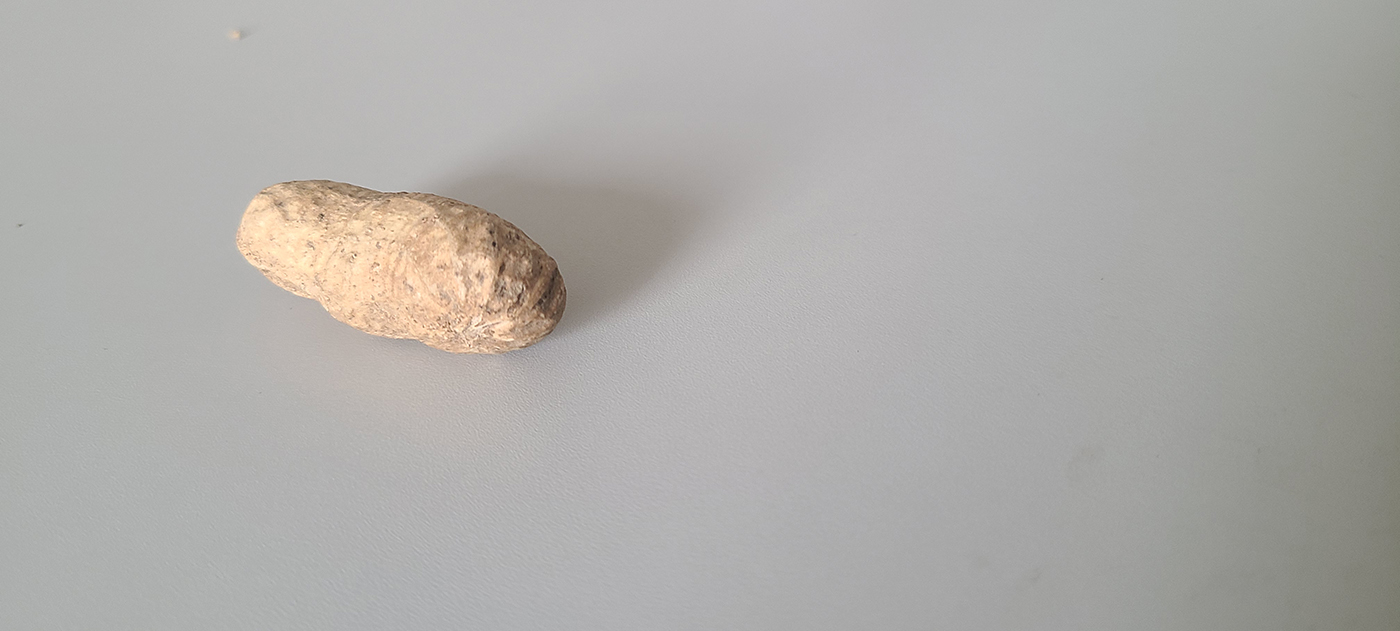h: (234, 174, 571, 355)
